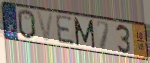3: (115, 23, 132, 55)
7: (96, 20, 111, 51)
E: (55, 14, 77, 47)
M: (73, 17, 96, 50)
O: (17, 9, 38, 41)
V: (36, 11, 55, 44)
